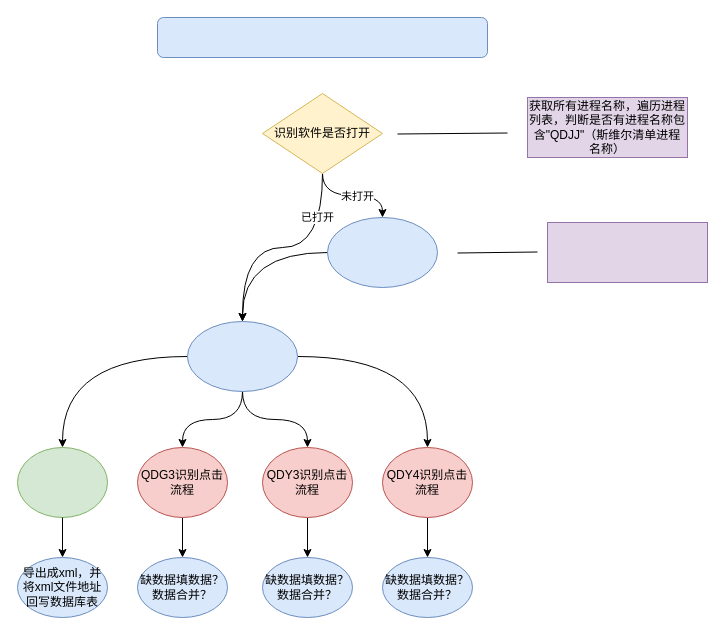
The diagram is 725 pixels wide and 635 high, and some of its shapes have lost their labels. Here are the shapes that lost their labels. From the top down, the centre of each, then its label:
[322,37]: 语言选型Python，主要框架是开源的PyAutoGui
[382,252]: 打开软件
[627,252]: 软件如果在固定位置的话直接打开，不在固定位置可能要识别图像鼠标双击打开
[242,356]: 根据数据库表内容读文件存放目录，文件名后缀
[62,482]: QDG4识别点击流程
